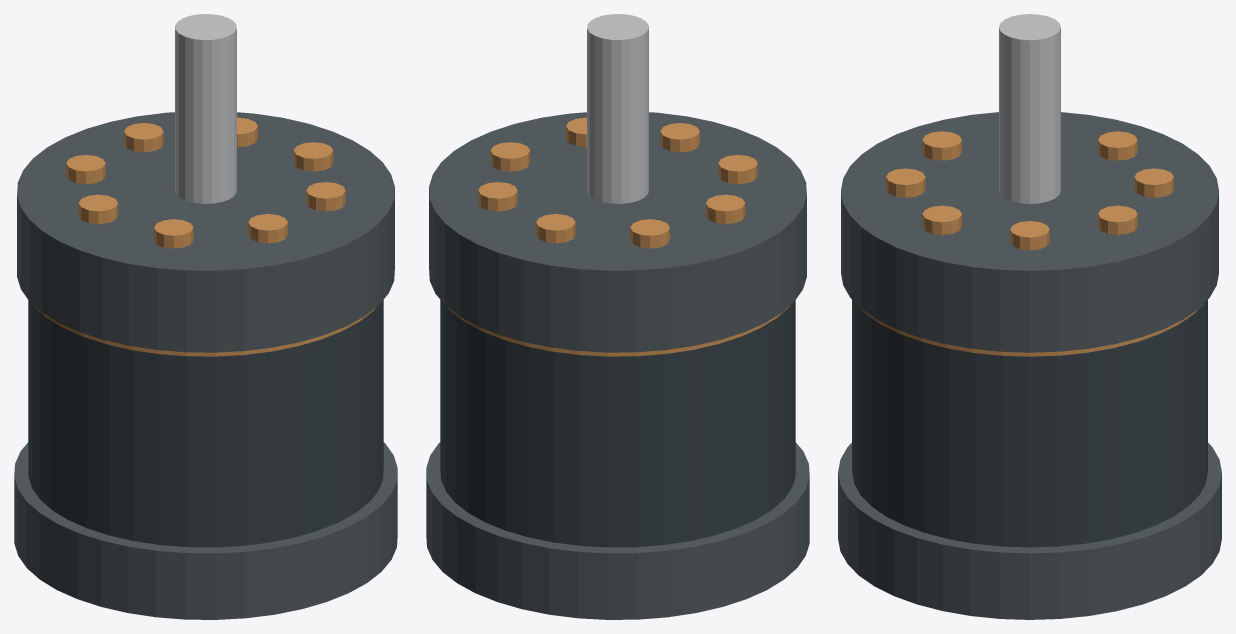
File: a2212_1000kv_motor.glb
The picture shows the model from 3 angles, left to right: view 1: azimuth 30°, elevation 25°; view 2: azimuth 150°, elevation 25°; view 3: azimuth 270°, elevation 25°; orthographic projection.
Visible parts, largest first — view 1: can, bell, base, shaft, copper_ring, vent3, vent5, vent0, vent6, vent1, vent4, vent2 (+1 smaller); view 2: can, bell, base, shaft, copper_ring, vent3, vent5, vent0, vent2, vent4, vent7, vent6 (+1 smaller); view 3: can, bell, base, shaft, copper_ring, vent0, vent3, vent5, vent1, vent2, vent6, vent7.
Boxes of the visible parts, x1,y1,x2,y2 form: can: (28,300,383,547); bell: (17,112,394,352); base: (14,442,397,619); shaft: (175,14,236,203); copper_ring: (33,305,376,356); vent3: (154,219,193,248); vent5: (66,155,105,184); vent0: (294,142,333,171); vent6: (124,123,163,152); vent1: (306,182,345,211); vent4: (78,194,117,224); vent2: (248,214,287,243); can: (440,300,795,547); bell: (429,112,806,352); base: (426,442,809,619); shaft: (587,14,648,203); copper_ring: (447,305,790,356); vent3: (718,155,757,184); vent5: (630,219,669,248); vent0: (490,142,529,171); vent2: (660,123,699,152); vent4: (706,194,745,224); vent7: (478,182,517,211); vent6: (536,214,575,243); can: (852,300,1207,547); bell: (841,112,1218,352); base: (838,443,1221,619); shaft: (999,14,1060,203); copper_ring: (856,304,1203,356); vent0: (1010,221,1049,250); vent3: (922,131,961,160); vent5: (1098,131,1137,160); vent1: (922,205,961,234); vent2: (886,168,925,197); vent6: (1134,168,1173,197); vent7: (1098,205,1137,234).
Bounding box in the file's own units: 0.68 × 1 × 0.68.
